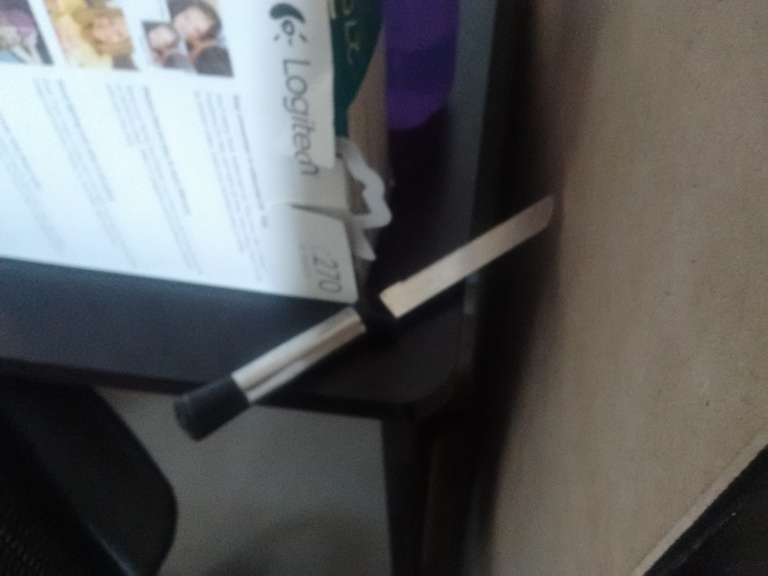knife: (173, 197, 556, 444)
